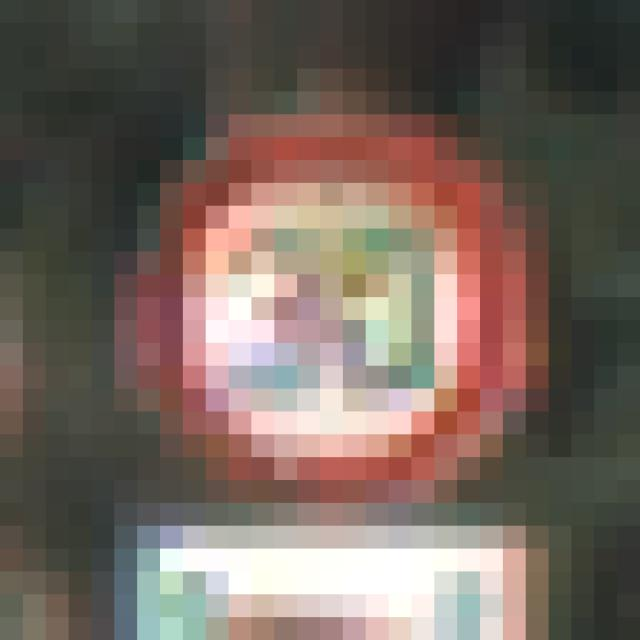Speed Limit -30-: (103, 126, 514, 514)
